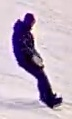snowboarder: (12, 13, 66, 110)
